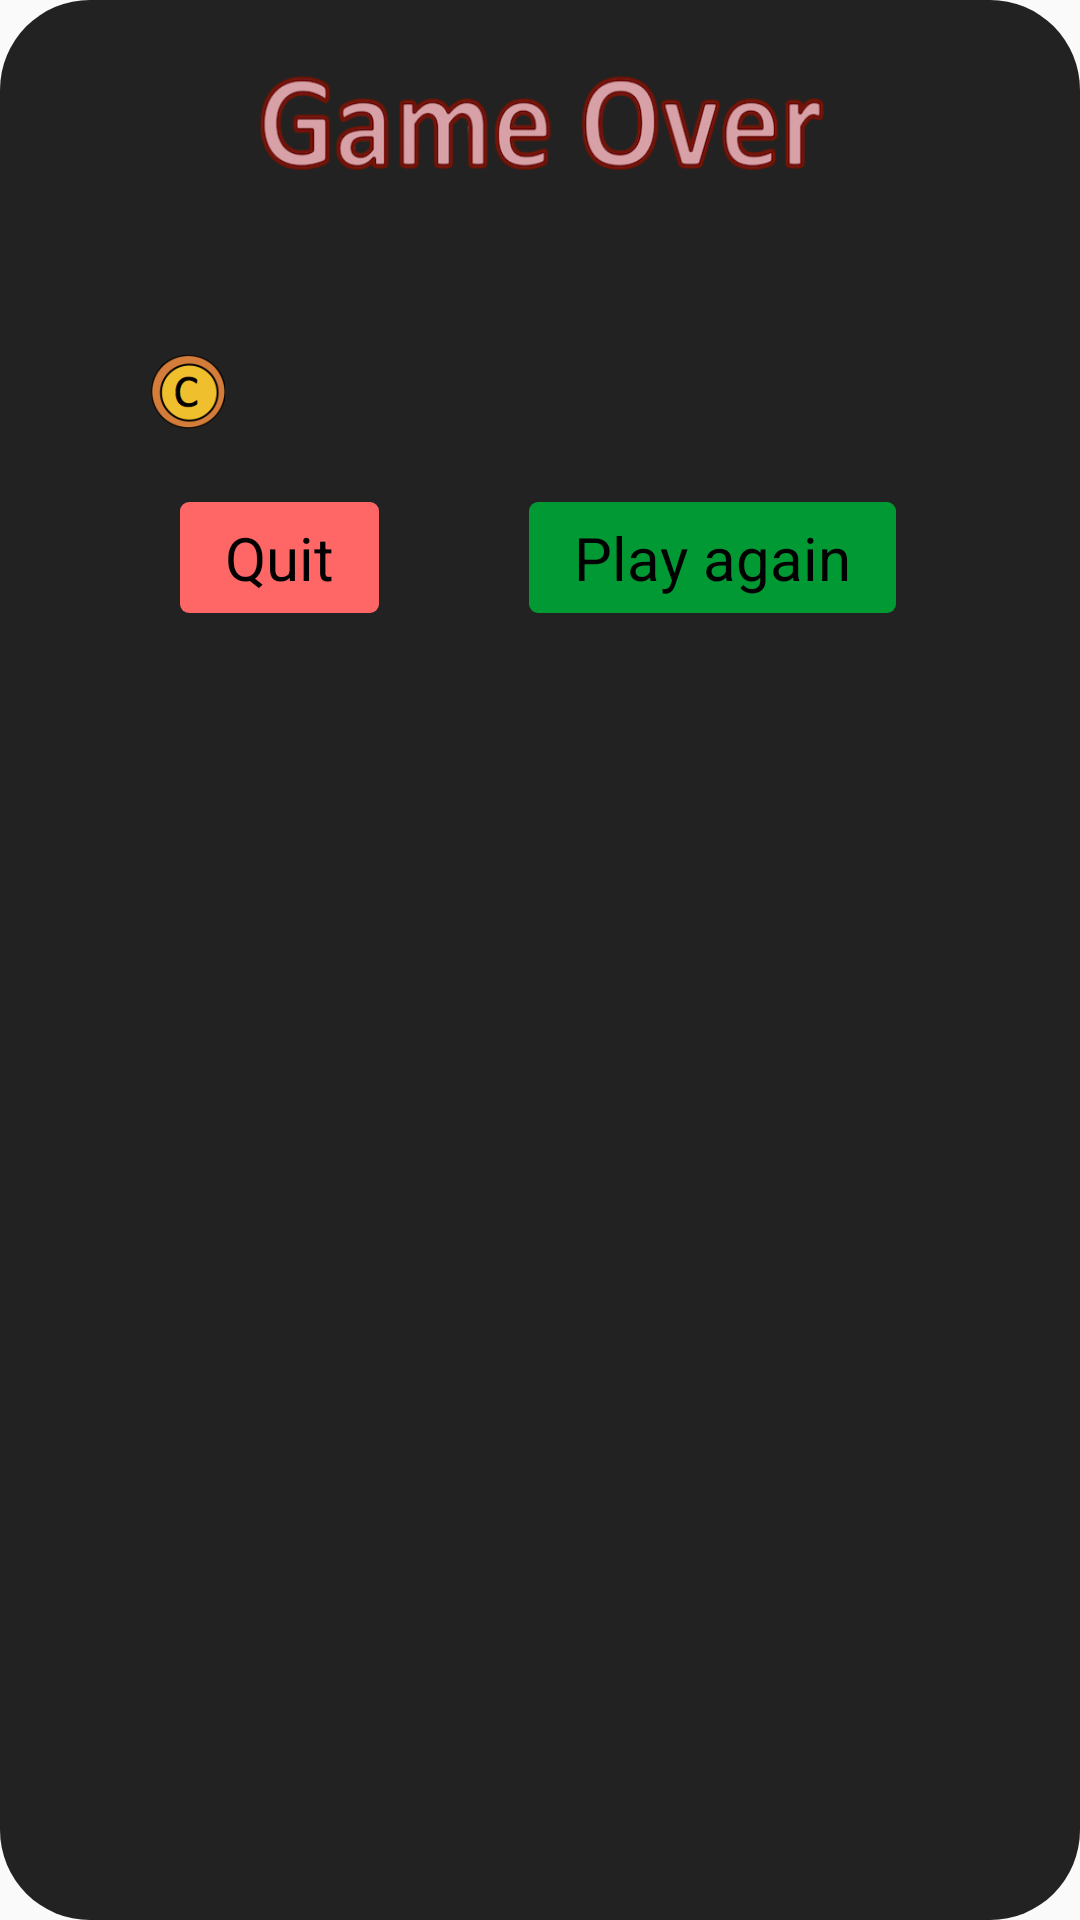

Named icons in this screenshot (1080 × 1920) and their centers, point (x, y):
coin: point (188, 391)
